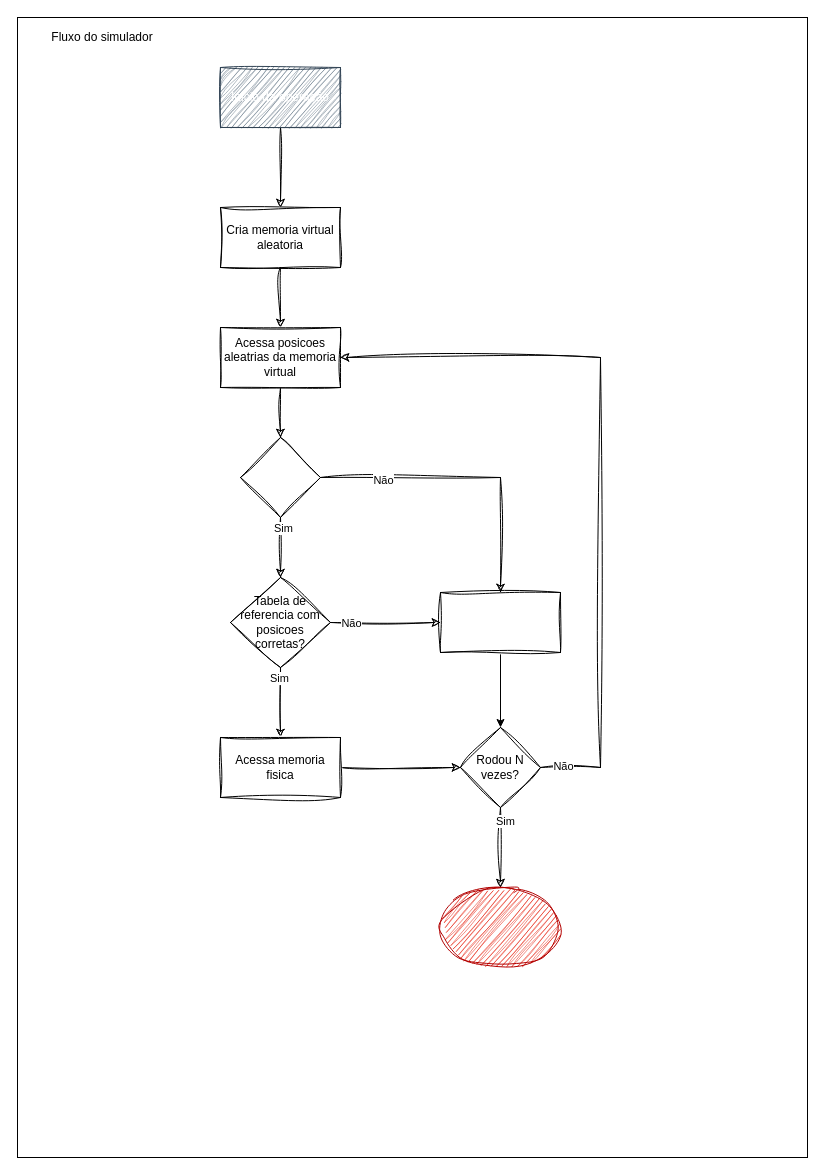
This 825x1175 diagram has some shape labels left out. Each missing label, with the box of its shape:
Fim da operação: (440, 886, 560, 968)
Foi alocado algo na memoria fisica?: (240, 436, 320, 518)
Trata page fault: (440, 592, 560, 652)
